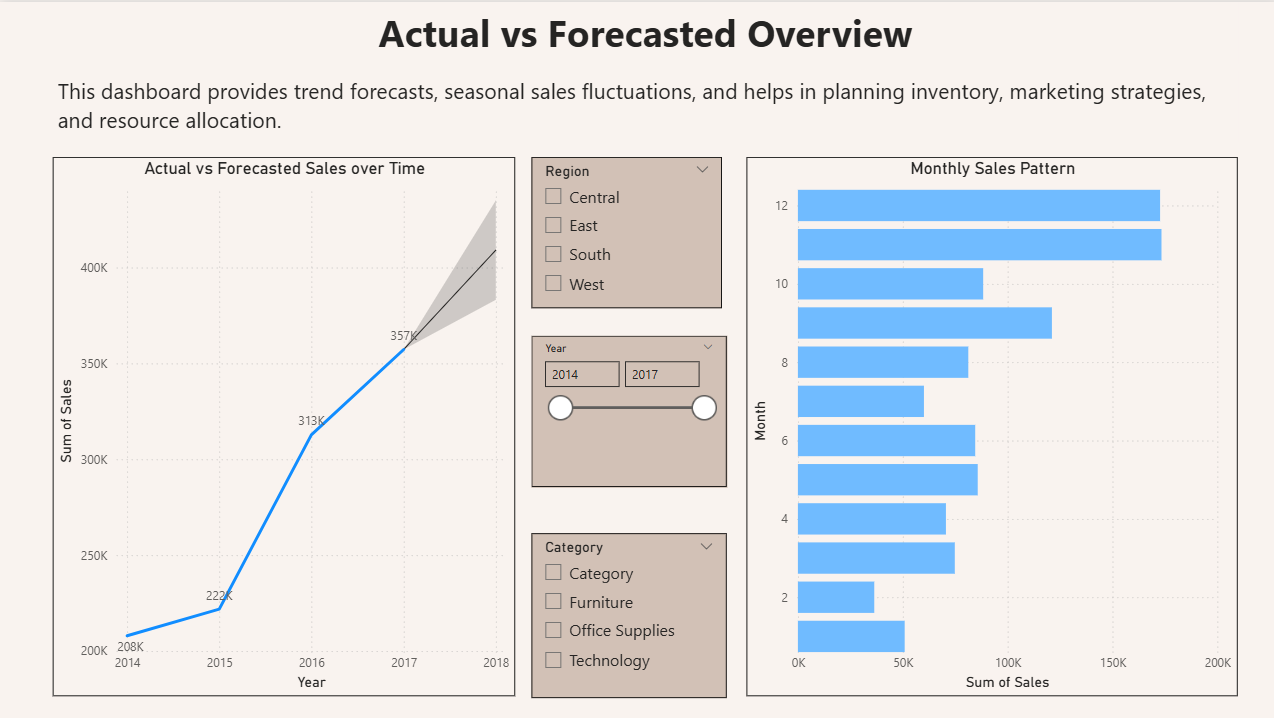

This screenshot's page, from the dashboard's own definition file:
{"tool":"powerbi","page":{"name":"Forecast","canvas":[1280,720],"ordinal":3},"visuals":[{"type":"lineChart","title":"Actual vs Forecasted Sales over Time ","fields":{"Category":["dim_date.Date.Variation.Date Hierarchy.Year","dim_date.Date.Variation.Date Hierarchy.Quarter","dim_date.Date.Variation.Date Hierarchy.Month","dim_date.Date.Variation.Date Hierarchy.Day"],"Y":["Sum(fact_sales.Sales)"]},"box":[53.5,155.1,462.4,539.3],"z":0},{"type":"clusteredBarChart","title":"Monthly Sales Pattern","fields":{"Category":["dim_date.Month"],"Y":["Sum(fact_sales.Sales)"]},"box":[747.9,155.1,491.3,539.3],"z":1},{"type":"slicer","fields":{"Values":["dim_region.Region"]},"box":[532.4,155.1,190.7,150.9],"z":2},{"type":"slicer","fields":{"Values":["dim_product.Category"]},"box":[532.4,531,194.9,164.7],"z":3},{"type":"slicer","fields":{"Values":["dim_date.Year"]},"box":[532.4,333.4,194.9,150.9],"z":4},{"type":"textbox","box":[53.5,0,1185.6,68.6],"z":5},{"type":"textbox","box":[53.5,68.6,1185.6,71.4],"z":6}]}

Visuals, with their boxes in screenshot pixels (x1, y1, x2, y2), scaled from the page's 1280x720 canvas onto the 1274x718 screenshot:
"Actual vs Forecasted Sales over Time " lineChart: box(53, 155, 513, 692)
"Monthly Sales Pattern" clusteredBarChart: box(744, 155, 1233, 692)
slicer - dim_region.Region: box(530, 155, 720, 305)
slicer - dim_product.Category: box(530, 530, 724, 694)
slicer - dim_date.Year: box(530, 332, 724, 483)
textbox: box(53, 0, 1233, 68)
textbox: box(53, 68, 1233, 140)
